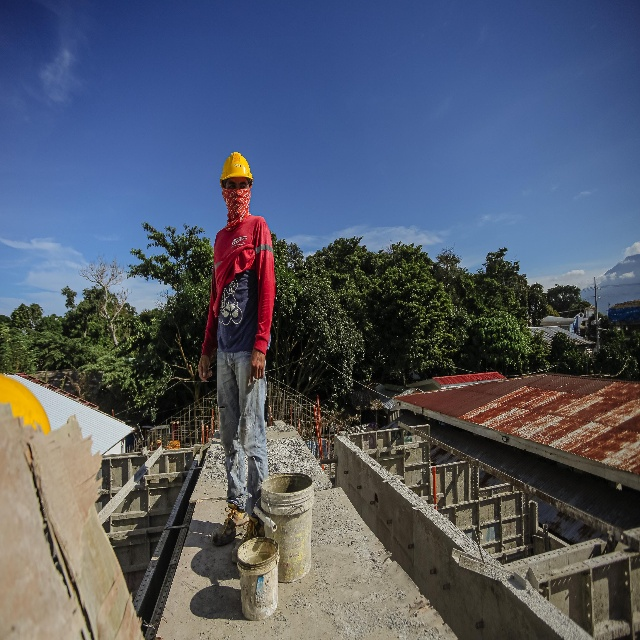Sin_guantes: (249, 348, 265, 382), (196, 354, 213, 385)
